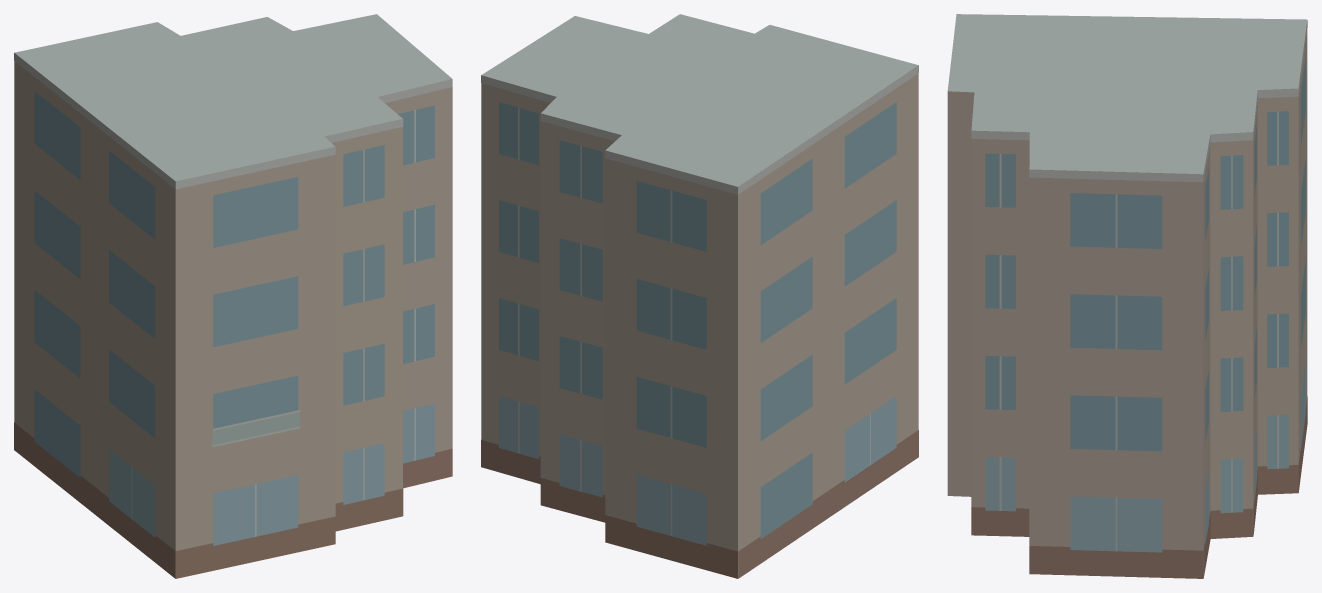
File: survey-upis-32582484.glb
The picture shows the model from 3 angles, left to right: view 1: azimuth 30°, elevation 25°; view 2: azimuth 150°, elevation 25°; view 3: azimuth 270°, elevation 25°; orthographic projection. The views are drawn at different scales.
Parts seen in each view (by area): view 1: survey-upis-32582484.tmp; view 2: survey-upis-32582484.tmp; view 3: survey-upis-32582484.tmp.
Part boxes in pixels (<box>): survey-upis-32582484.tmp: <box>14,14,452,578</box>; survey-upis-32582484.tmp: <box>481,14,918,578</box>; survey-upis-32582484.tmp: <box>947,14,1307,578</box>.
Size of the model in its own units: 10.37 by 12.2 by 9.84.
